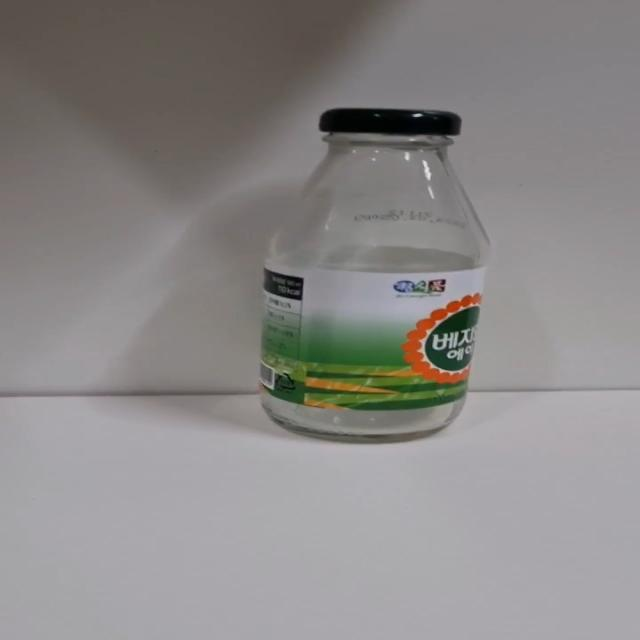Glass: (257, 108, 492, 446)
